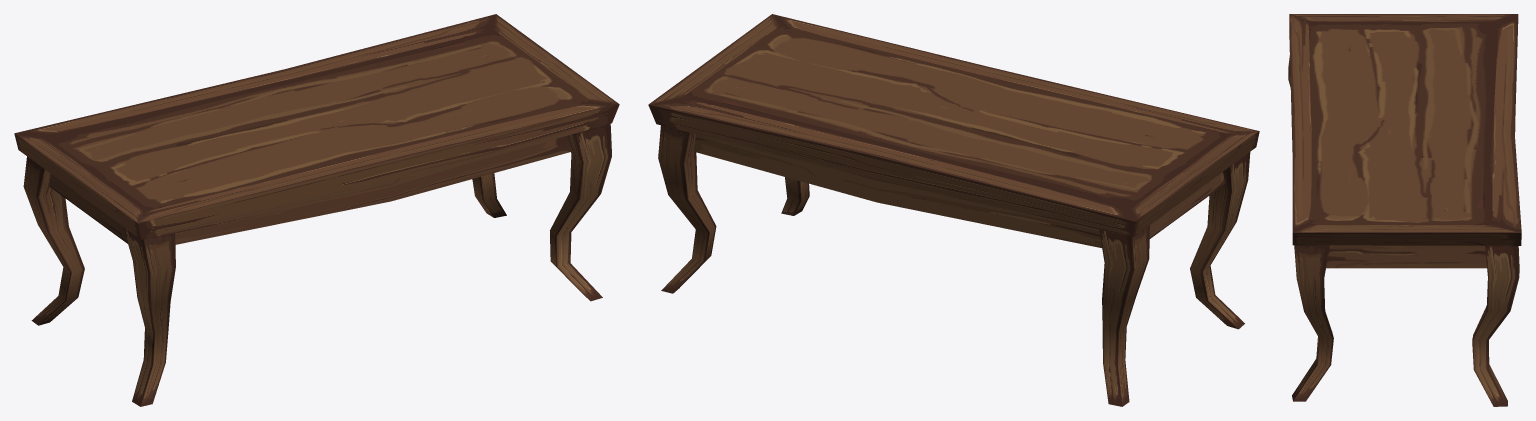
File: SM_PROP_table_interior_02.fbx
3 renders of one model, left to right at view 1: azimuth 30°, elevation 25°; view 2: azimuth 150°, elevation 25°; view 3: azimuth 270°, elevation 25°, orthographic. The views are drawn at different scales.
Parts seen in each view (by area): view 1: SM_PROP_table_interior_02; view 2: SM_PROP_table_interior_02; view 3: SM_PROP_table_interior_02.
Part boxes in pixels (<box>): SM_PROP_table_interior_02: <box>14,14,619,406</box>; SM_PROP_table_interior_02: <box>648,14,1259,406</box>; SM_PROP_table_interior_02: <box>1288,14,1521,406</box>.
Bounding box in the file's own units: 221 × 82.64 × 99.46.
